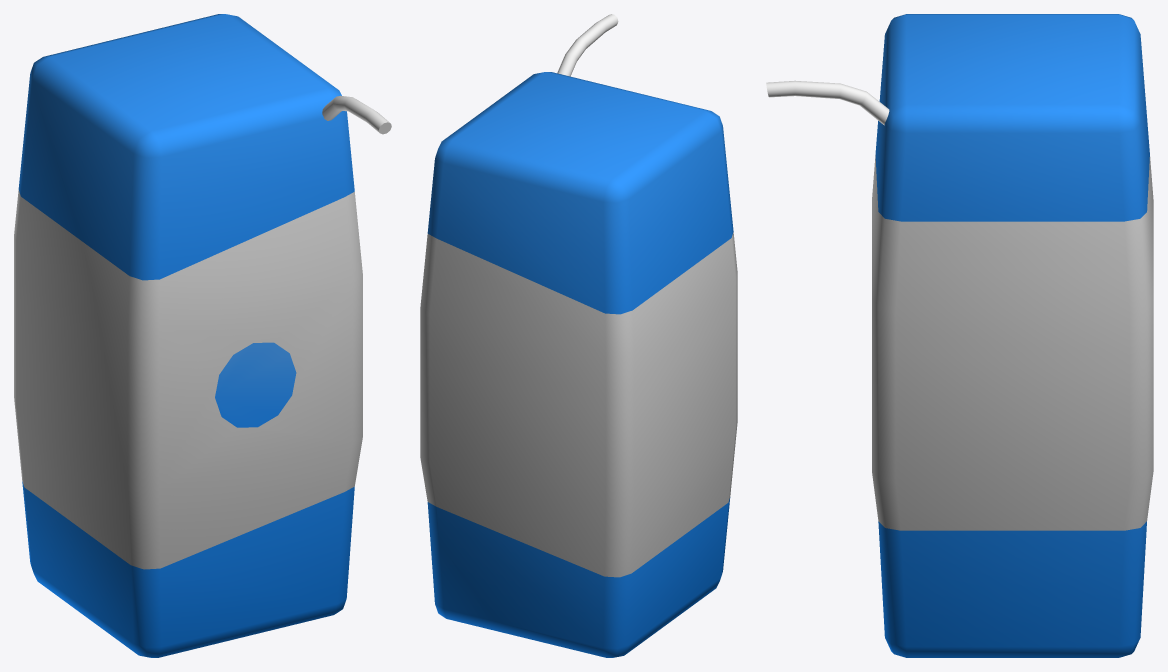
File: Juice Carton_3.fbx
The picture shows the model from 3 angles, left to right: view 1: azimuth 30°, elevation 25°; view 2: azimuth 150°, elevation 25°; view 3: azimuth 270°, elevation 25°; orthographic projection. The views are drawn at different scales.
Parts seen in each view (by area): view 1: Juice Carton_3; view 2: Juice Carton_3; view 3: Juice Carton_3.
Boxes of the visible parts, x1,y1,x2,y2 form: Juice Carton_3: (14, 14, 391, 657); Juice Carton_3: (420, 14, 737, 657); Juice Carton_3: (766, 14, 1153, 657).
Size of the model in its own units: 0.0356 by 0.0797 by 0.049.
